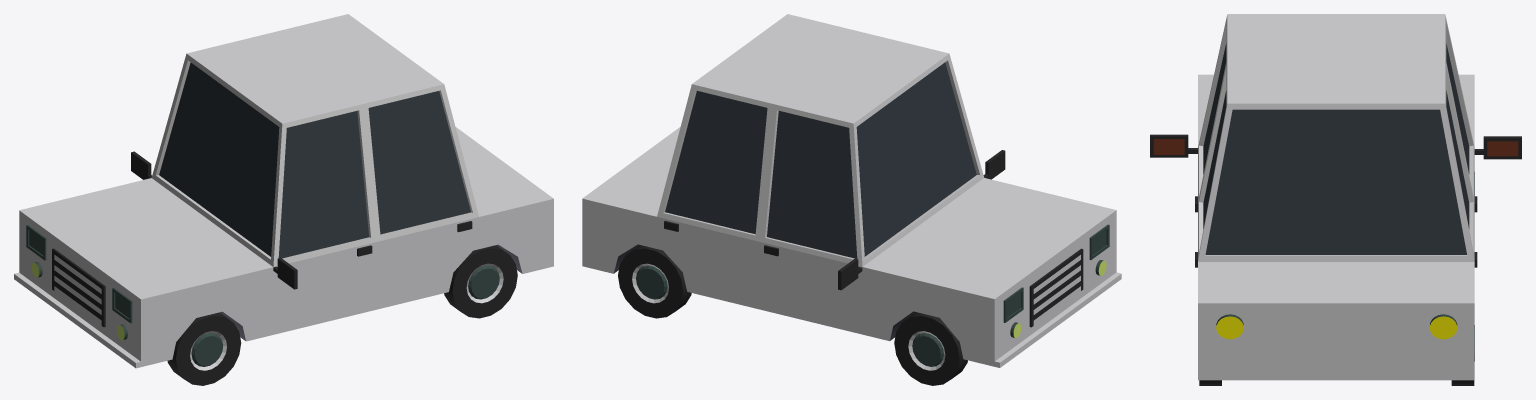
File: car9.FBX
3 views of the same model, side by side, from view 1: azimuth 30°, elevation 25°; view 2: azimuth 150°, elevation 25°; view 3: azimuth 270°, elevation 25° (orthographic). The views are drawn at different scales.
Parts seen in each view (by area): view 1: car9; view 2: car9; view 3: car9.
Part boxes in pixels (x1=…): car9: x1=14, y1=14, x2=553, y2=385; car9: x1=582, y1=14, x2=1121, y2=385; car9: x1=1150, y1=14, x2=1521, y2=385.
Size of the model in its own units: 9.78 by 5.11 by 6.58.
